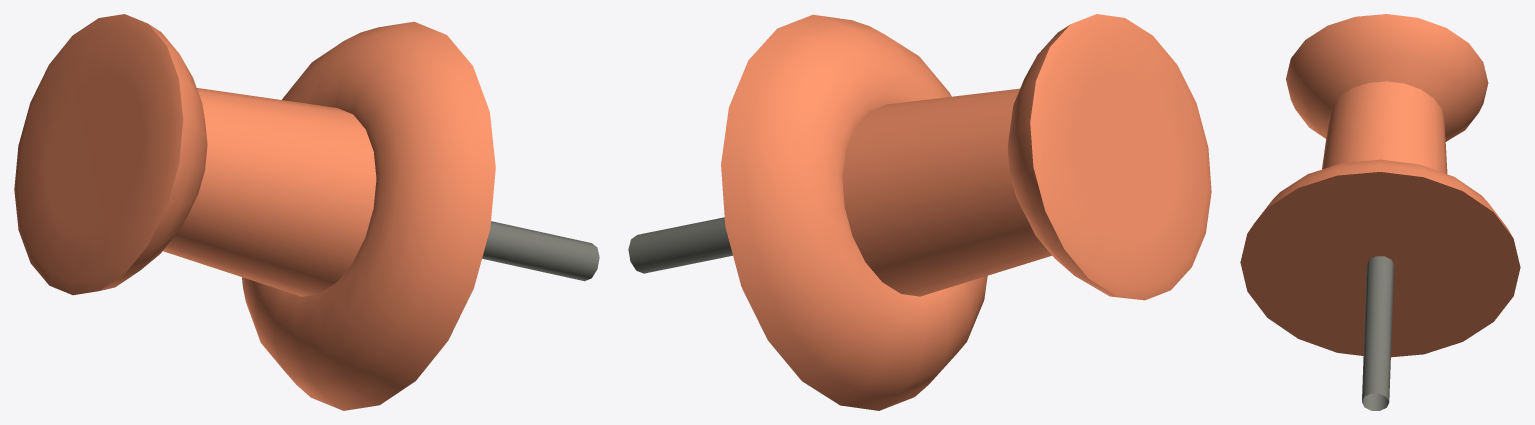
File: OT_192_pushpin.glb
3 renders of one model, left to right at view 1: azimuth 30°, elevation 25°; view 2: azimuth 150°, elevation 25°; view 3: azimuth 270°, elevation 25°, orthographic. The views are drawn at different scales.
Visible parts, largest first — view 1: pushpin; view 2: pushpin; view 3: pushpin.
Boxes of the visible parts, x1,y1,x2,y2 form: pushpin: [14, 14, 599, 410]; pushpin: [628, 14, 1211, 410]; pushpin: [1240, 14, 1520, 410].
Size of the model in its own units: 0.6391 by 0.4654 by 0.4081.
